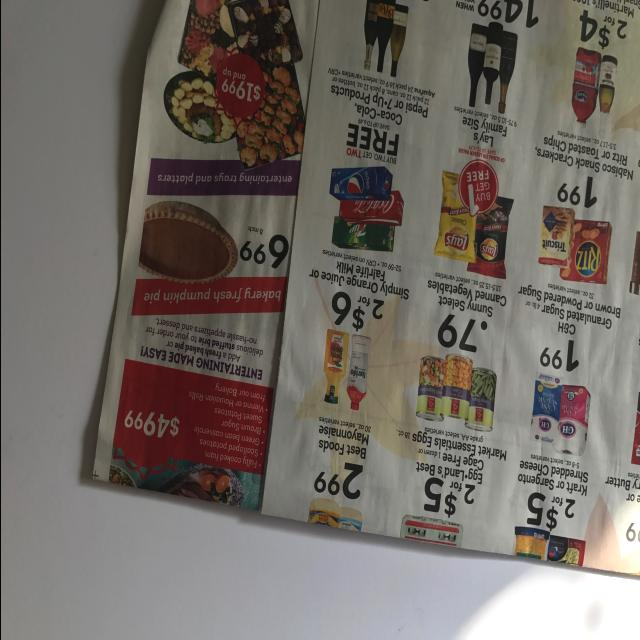Paper: (84, 0, 640, 585)
